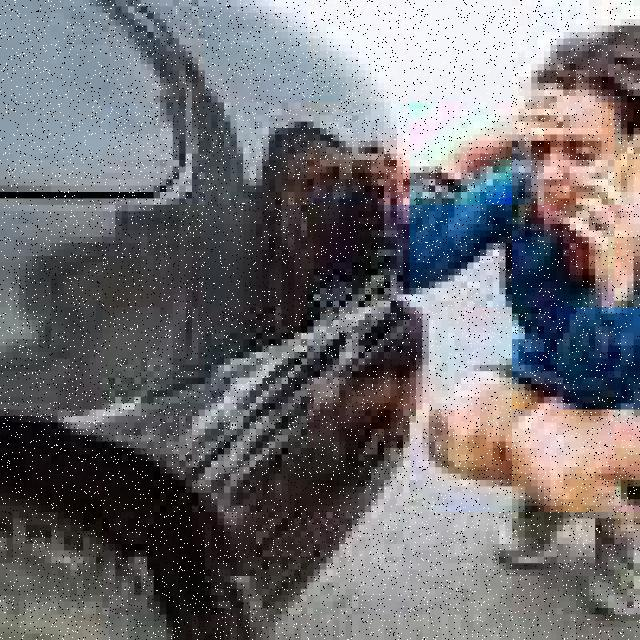rear-bumper-dent: (0, 307, 461, 634)
